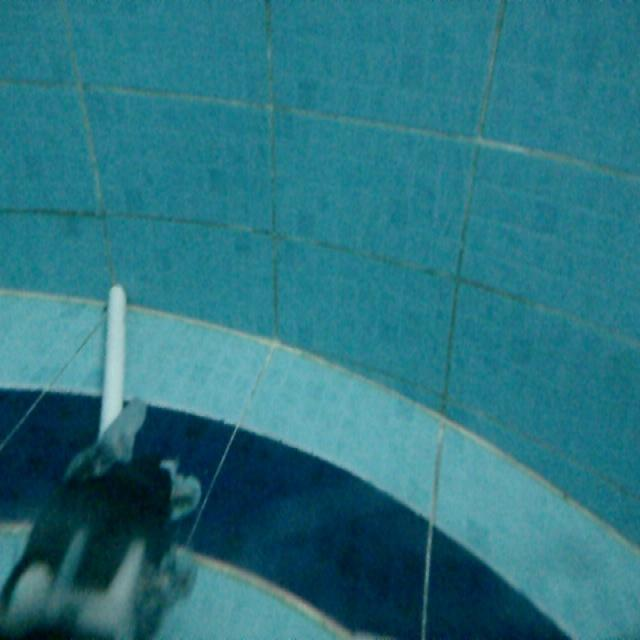Cube: (94, 279, 130, 441)
